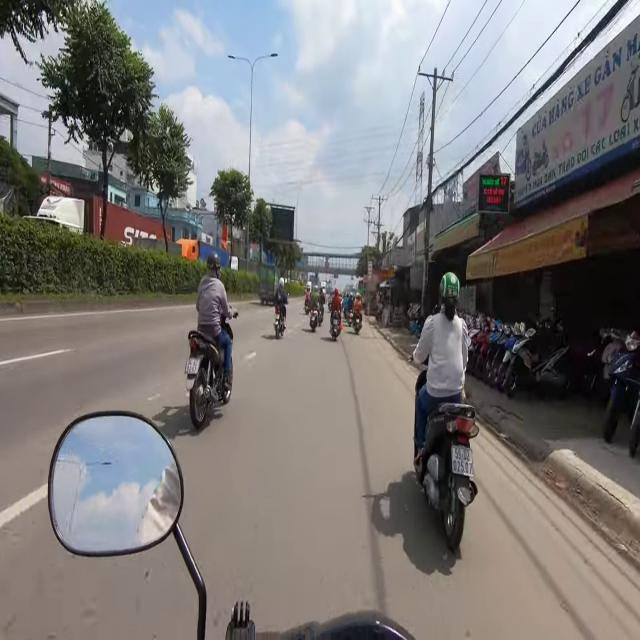bien_trang: (451, 444, 473, 479), (184, 356, 200, 379)
